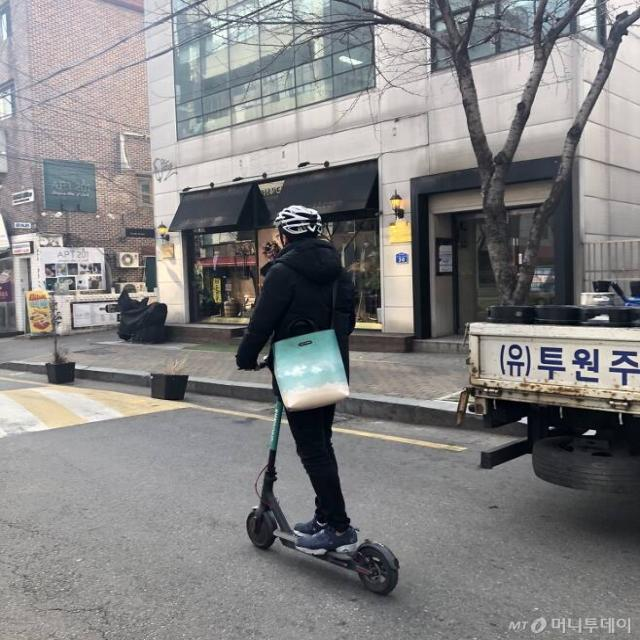helmet: (227, 205, 412, 601)
